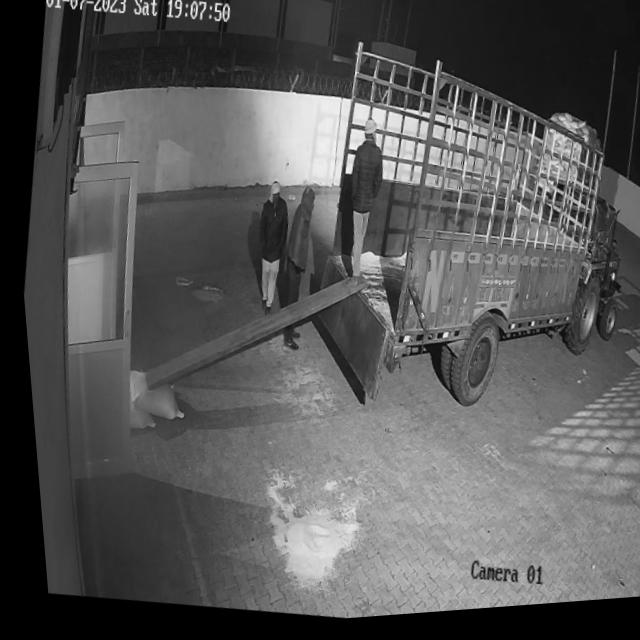sack: (117, 368, 184, 427)
